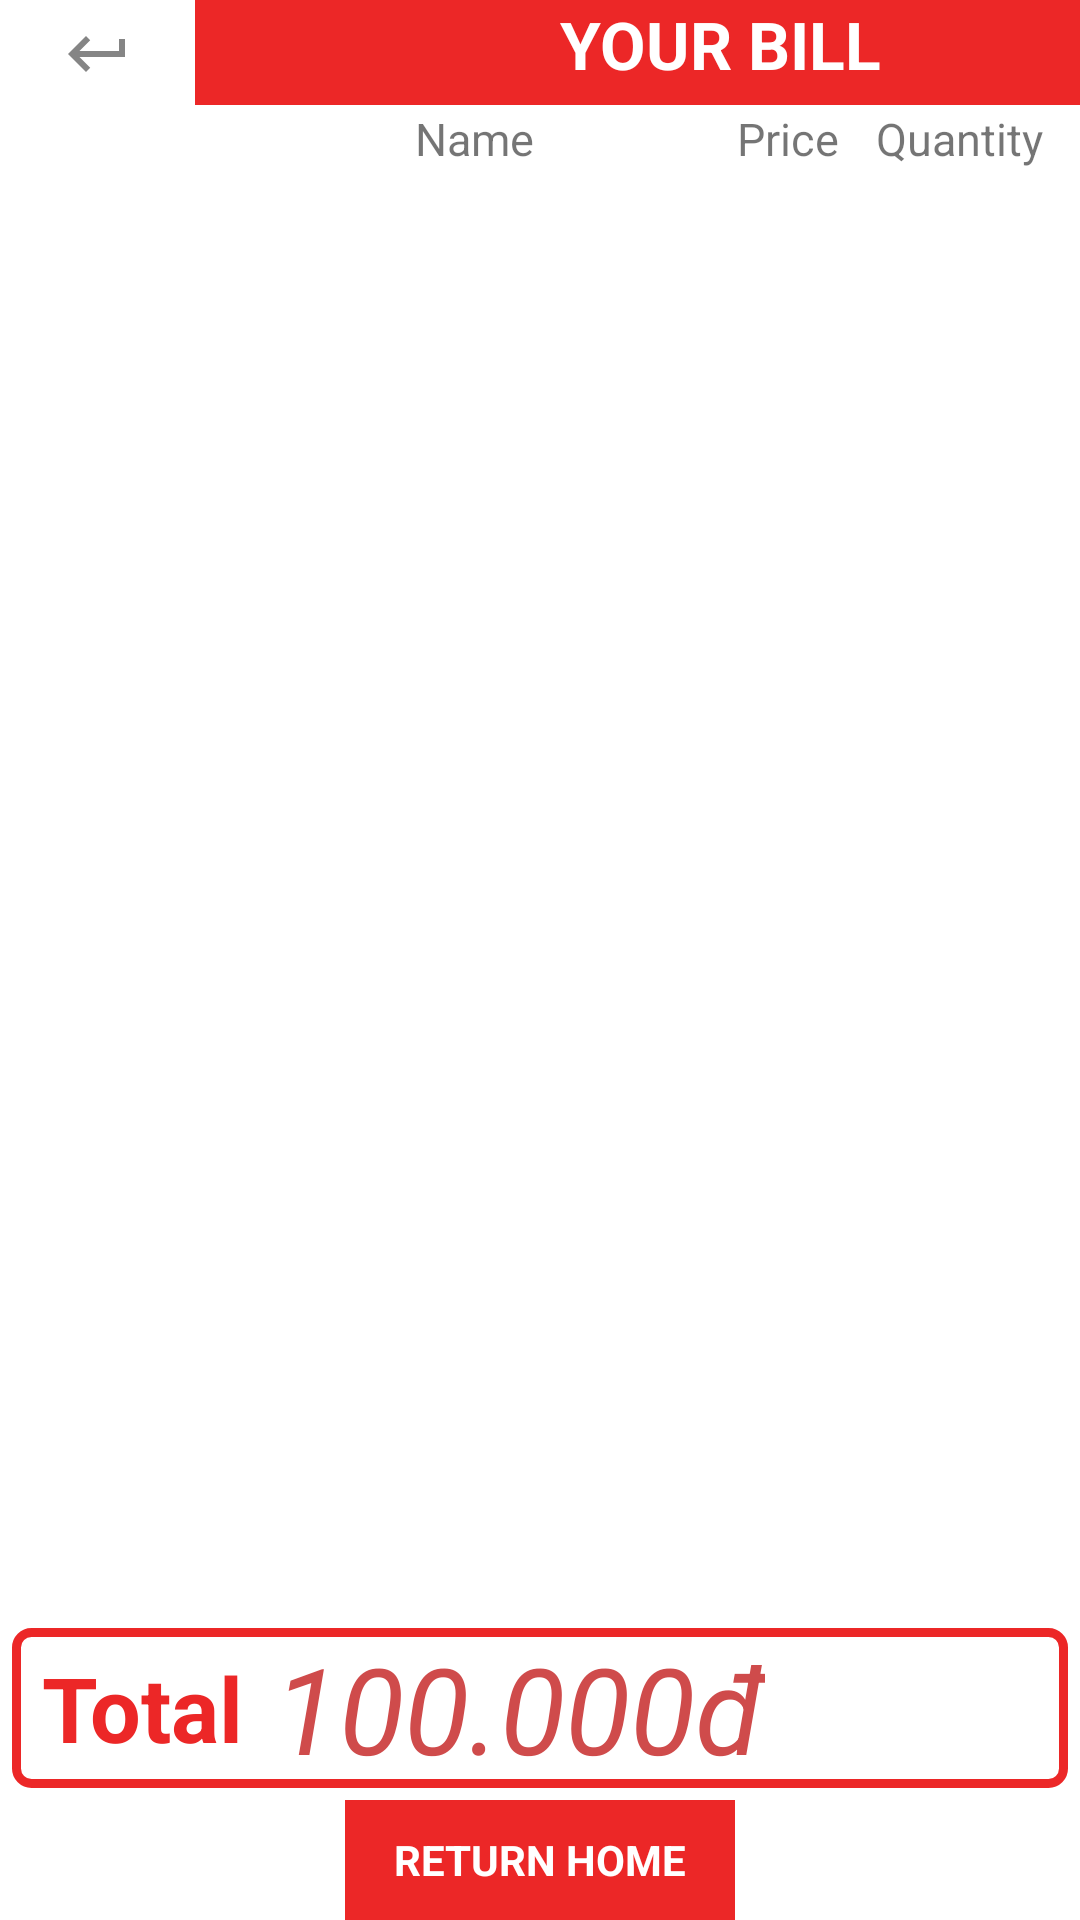

Point at icon controls on the screen. Image size 1080×1920, points as point (x, y).
return: point (96, 54)
